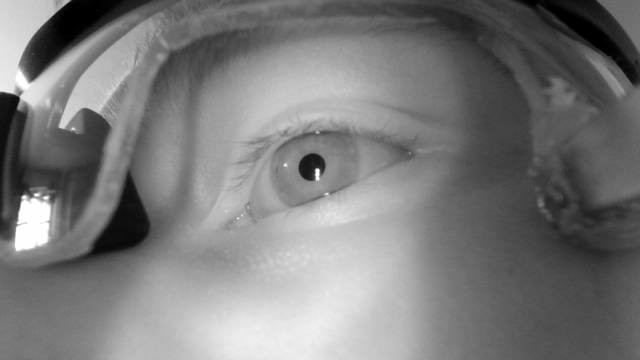pupil: (297, 152, 326, 182)
